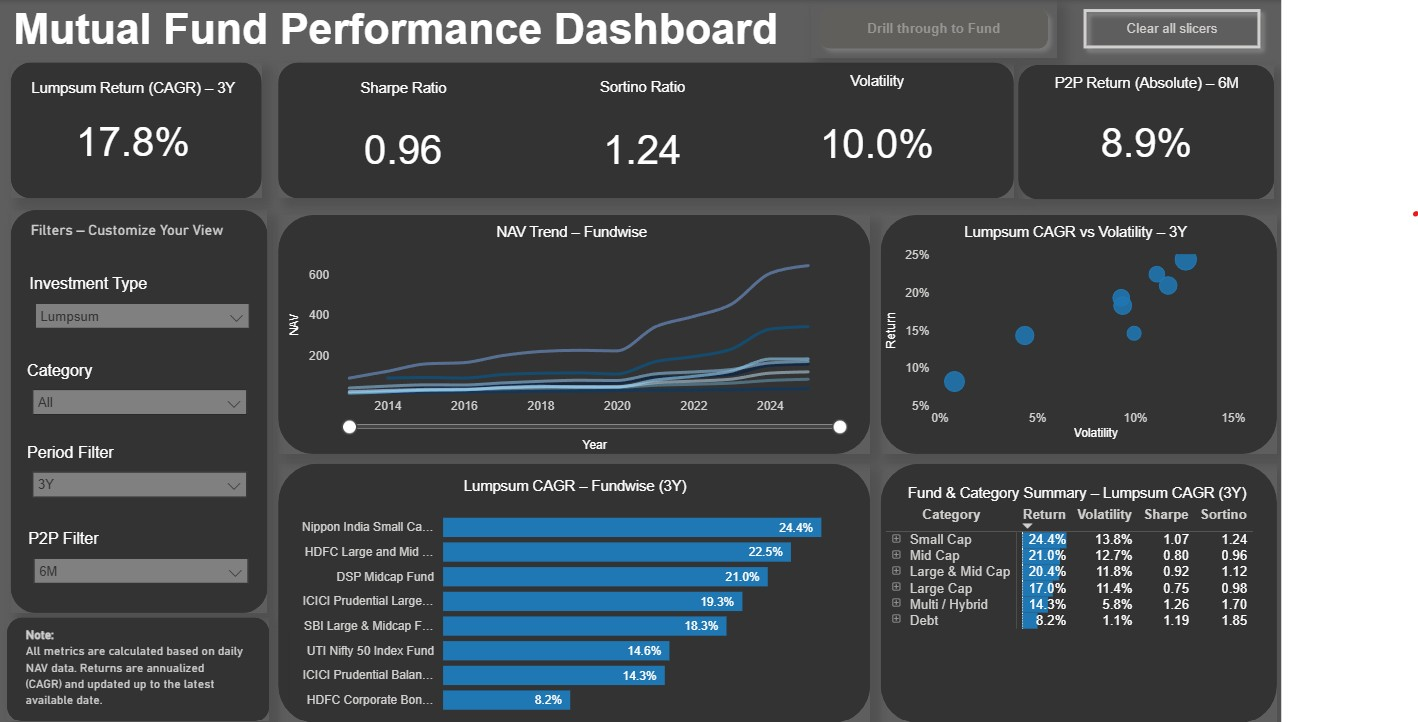

This screenshot's page, from the dashboard's own definition file:
{"tool":"powerbi","page":{"name":"MF dashboard","canvas":[1280,720],"ordinal":0},"visuals":[{"type":"group","id":"g1","title":"Background","box":[10.1,62.1,1264.2,658.7],"z":0},{"type":"shape","box":[24.5,200.5,235.2,408.3],"z":0,"group":"g2"},{"type":"shape","box":[13.5,208.9,255.5,401.2],"z":0,"group":"g1"},{"type":"shape","box":[23.1,630.9,226.5,89.5],"z":0,"group":"g3"},{"type":"shape","box":[279.6,62.1,731.9,135.1],"z":1000,"group":"g1"},{"type":"card","fields":{"Values":["_Measures.KPI_Selected_Return"]},"box":[14.2,74.8,243.8,106.8],"z":1000},{"type":"slicer","title":"Period Filter","fields":{"Values":["Period_Table.Period_Name"]},"box":[24.5,437.1,233.7,85.1],"z":1000,"group":"g2"},{"type":"textbox","box":[23.1,619.4,226.5,101],"z":1000,"group":"g3"},{"type":"shape","box":[14,62.1,249.8,135.1],"z":2000,"group":"g1"},{"type":"lineChart","title":"NAV Trend – Fundwise","fields":{"Category":["public nav_history.nav_date.Variation.Date Hierarchy.Year","public nav_history.nav_date.Variation.Date Hierarchy.Quarter","public nav_history.nav_date.Variation.Date Hierarchy.Month","public nav_history.nav_date.Variation.Date Hierarchy.Day"],"Series":["public fund_master.fund_name"],"Y":["_Measures.NAV_Value"]},"box":[285.9,217.6,571.7,234.7],"z":2000},{"type":"slicer","title":"Investment Type","fields":{"Values":["InvestmentType_Table.Investment_Type"]},"box":[27.4,268.3,233.7,86.6],"z":2000,"group":"g2"},{"type":"shape","box":[1016.6,64.2,254.6,133.7],"z":3000,"group":"g1"},{"type":"scatterChart","fields":{"Size":["Median(public risk_metrics.sharpe)"],"Y":["_Measures.Return_Scatter"],"X":["_Measures.Volatility_Scatter"],"Category":["public fund_master.fund_name"]},"box":[879.2,217.1,388,224.3],"z":3000},{"type":"slicer","title":"Category","fields":{"Values":["Category_Table.Category"]},"box":[24.5,354.9,233.7,88],"z":3000,"group":"g2"},{"type":"shape","box":[279.6,214.1,589,237.9],"z":4000,"group":"g1"},{"type":"barChart","fields":{"Category":["public fund_master.fund_name"],"Y":["_Measures.Return_Scatter"]},"box":[286.5,469.9,578.4,250.9],"z":4000},{"type":"slicer","title":"P2P Filter","fields":{"Values":["P2P_Period_Table.P2P_Period"]},"box":[25.9,522.2,233.7,86.6],"z":4000,"group":"g2"},{"type":"card","title":"Sharpe Ratio","fields":{"Values":["_Measures.KPI_Sharpe_Ratio"]},"box":[286.5,74.8,236.7,122.8],"z":5000},{"type":"textbox","box":[28.1,215.6,232.3,34.6],"z":5000,"group":"g2"},{"type":"shape","box":[279.6,461.9,589,259],"z":5000,"group":"g1"},{"type":"card","title":"Sortino Ratio","fields":{"Values":["_Measures.KPI_Sortino_Ratio"]},"box":[525,73,234.9,124.6],"z":6000},{"type":"shape","box":[880.2,214.1,394.1,237.9],"z":6000,"group":"g1"},{"type":"card","title":"Volatility","fields":{"Values":["_Measures.KPI_Volatility"]},"box":[758.2,67.6,236.7,124.6],"z":7000},{"type":"shape","box":[880.2,461.9,394.1,259],"z":7000,"group":"g1"},{"type":"card","fields":{"Values":["_Measures.KPI_Selected_P2P_Return"]},"box":[1021.6,69.4,245.6,119.2],"z":8000},{"type":"shape","box":[10.1,614.6,261.1,103.9],"z":8000,"group":"g1"},{"type":"pivotTable","fields":{"Rows":["Category_Table.Category","public fund_master.fund_name"],"Values":["_Measures.KPI_Selected_Return","_Measures.KPI_Volatility","_Measures.KPI_Sharpe_Ratio","_Measures.KPI_Sortino_Ratio"]},"box":[880.1,477.6,391,197.7],"z":9000},{"type":"group","id":"g2","title":"Filter","box":[24.5,200.5,236.6,408.3],"z":10000},{"type":"group","id":"g3","title":"Note","box":[23.1,619.4,226,101.4],"z":11000},{"type":"textbox","box":[10.7,0,799.1,74.8],"z":12000},{"type":"actionButton","box":[809.8,0,245.1,57.2],"z":13000},{"type":"actionButton","box":[1072.3,0,194.1,57.2],"z":14000}]}

Visuals, with their boxes on the page's 1280x720 design canvas (x1, y1, x2, y2). These are canvas units, not pixel positions in the 1418x722 screenshot, which may show the page scaled, cropped or inside an application window:
"Background" group: bbox(10, 62, 1274, 721)
shape: bbox(24, 200, 260, 609)
shape: bbox(14, 209, 269, 610)
shape: bbox(23, 631, 250, 720)
shape: bbox(280, 62, 1012, 197)
card - _Measures.KPI_Selected_Return: bbox(14, 75, 258, 182)
"Period Filter" slicer: bbox(24, 437, 258, 522)
textbox: bbox(23, 619, 250, 720)
shape: bbox(14, 62, 264, 197)
"NAV Trend – Fundwise" lineChart: bbox(286, 218, 858, 452)
"Investment Type" slicer: bbox(27, 268, 261, 355)
shape: bbox(1017, 64, 1271, 198)
scatterChart - Median(public risk_metrics.sharpe) x _Measures.Return_Scatter: bbox(879, 217, 1267, 441)
"Category" slicer: bbox(24, 355, 258, 443)
shape: bbox(280, 214, 869, 452)
barChart - public fund_master.fund_name x _Measures.Return_Scatter: bbox(286, 470, 865, 721)
"P2P Filter" slicer: bbox(26, 522, 260, 609)
"Sharpe Ratio" card: bbox(286, 75, 523, 198)
textbox: bbox(28, 216, 260, 250)
shape: bbox(280, 462, 869, 721)
"Sortino Ratio" card: bbox(525, 73, 760, 198)
shape: bbox(880, 214, 1274, 452)
"Volatility" card: bbox(758, 68, 995, 192)
shape: bbox(880, 462, 1274, 721)
card - _Measures.KPI_Selected_P2P_Return: bbox(1022, 69, 1267, 189)
shape: bbox(10, 615, 271, 718)
pivotTable - Category_Table.Category x public fund_master.fund_name: bbox(880, 478, 1271, 675)
"Filter" group: bbox(24, 200, 261, 609)
"Note" group: bbox(23, 619, 249, 721)
textbox: bbox(11, 0, 810, 75)
actionButton: bbox(810, 0, 1055, 57)
actionButton: bbox(1072, 0, 1266, 57)
